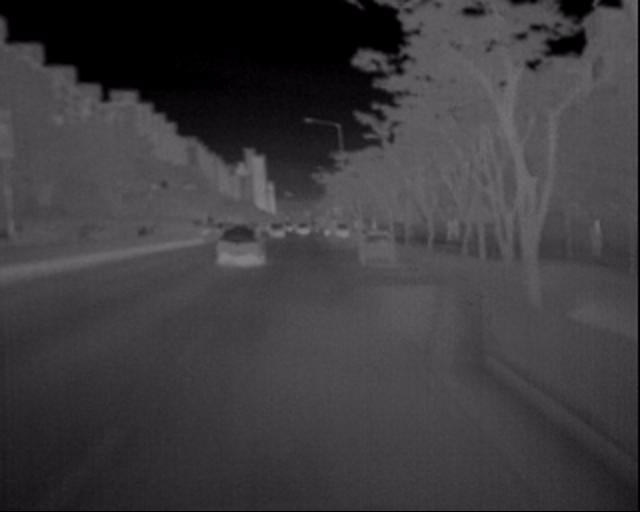person: (587, 208, 617, 264)
